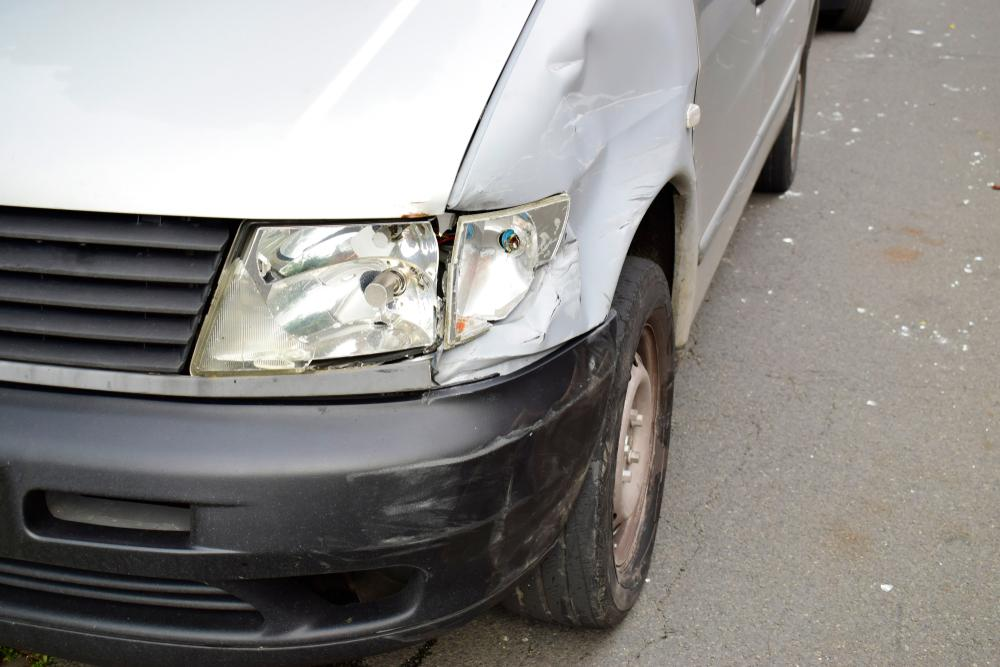dent: (543, 7, 687, 328)
lamp broken: (190, 189, 570, 375)
scratch: (346, 374, 614, 581)
